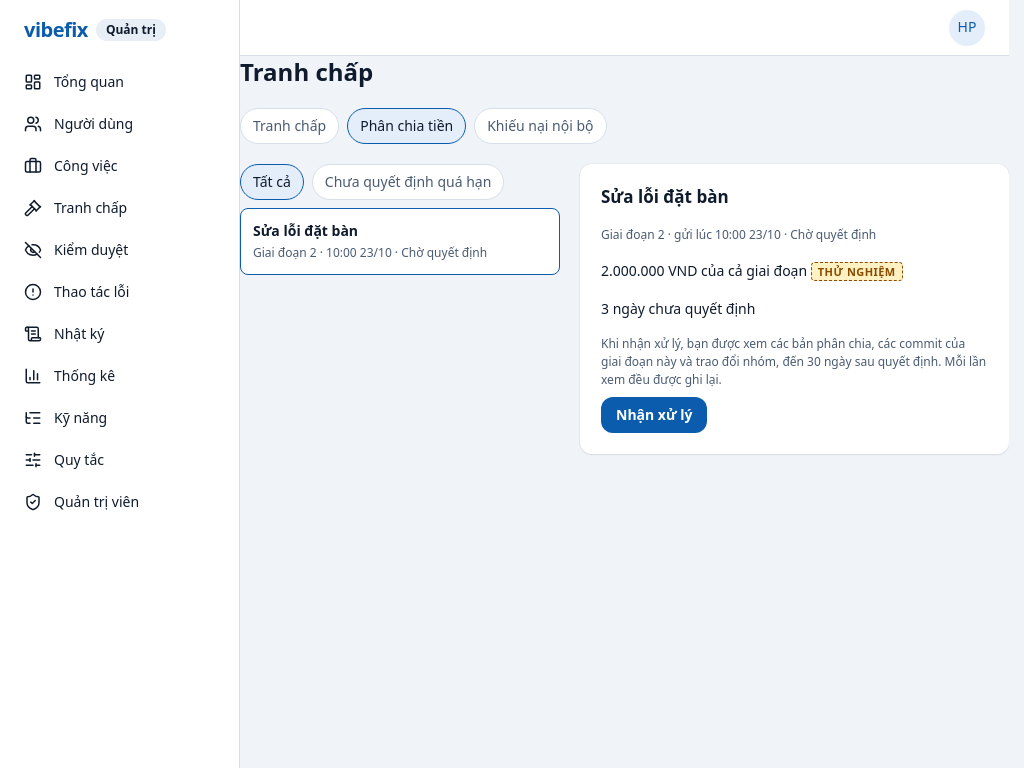
ADM-4 "Phân chia tiền" (FR-84, AD-40, UX-DR107) › reads the case again after taking it, whose words the take does not answer with
Click the button "Nhận xử lý".
click(654, 415)  # box [601,397,708,433]
(page scrolled)
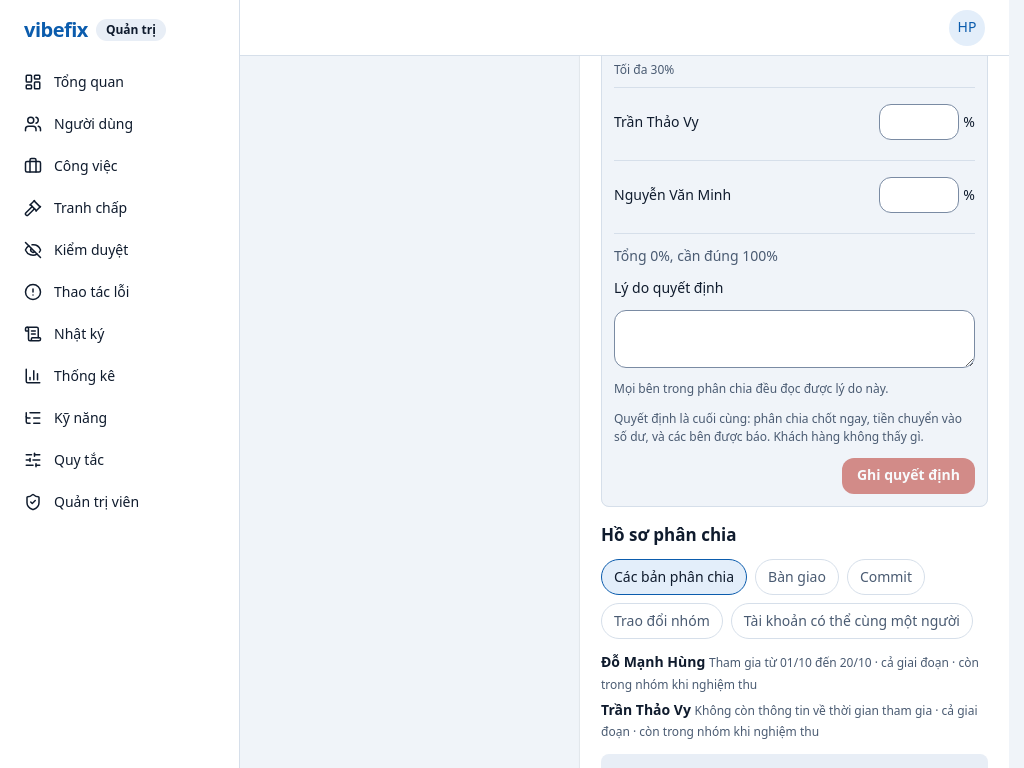
Expected: the text "nhận xử lý" is gone
Expected: the element named "Hồ sơ phân chia" is shown, [601,559,988,639]
